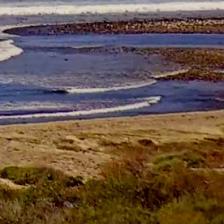surfer: (14, 0, 20, 2)
